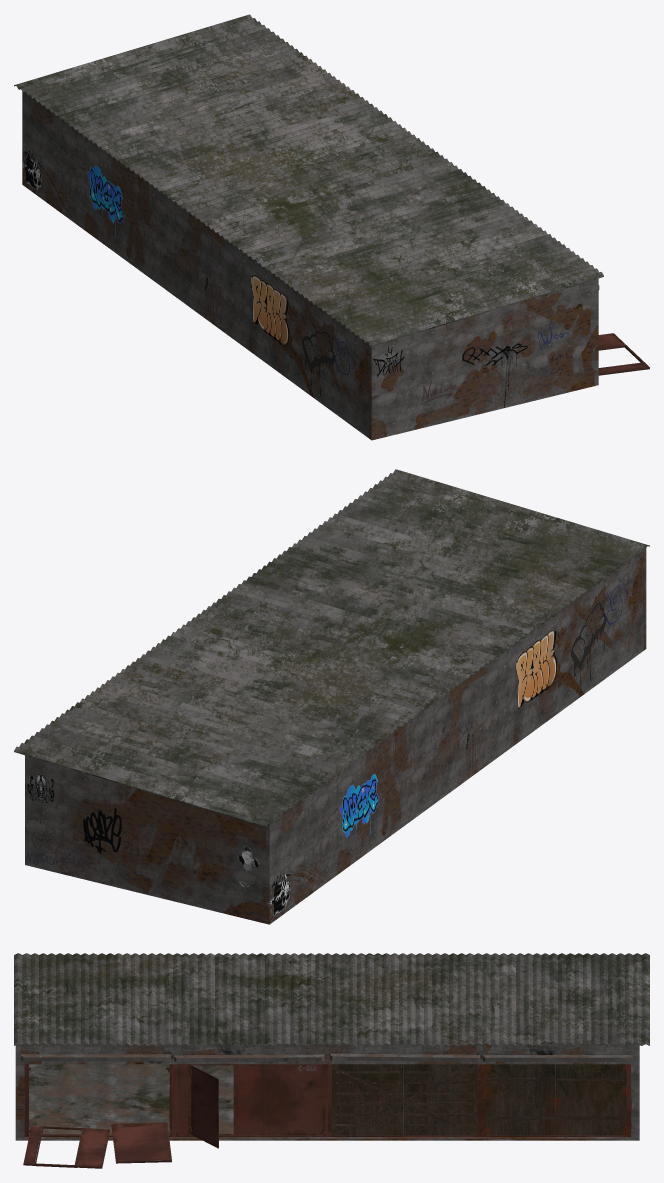
The model's file is yikik_garajlar.gltf.
3 views of the same model, one above another, from view 1: azimuth 30°, elevation 25°; view 2: azimuth 150°, elevation 25°; view 3: azimuth 270°, elevation 25° (orthographic). The views are drawn at different scales.
Parts seen in each view (by area): view 1: yikik_garajlar; view 2: yikik_garajlar; view 3: yikik_garajlar.
Part boxes in pixels (x1,y1,x2,y2): yikik_garajlar: (14, 14, 649, 440); yikik_garajlar: (14, 469, 649, 924); yikik_garajlar: (14, 953, 649, 1168).
Size of what is drawn, in the model's own units: 7.74 by 2.85 by 16.31.
Materials: 3 (3 with a texture image).
